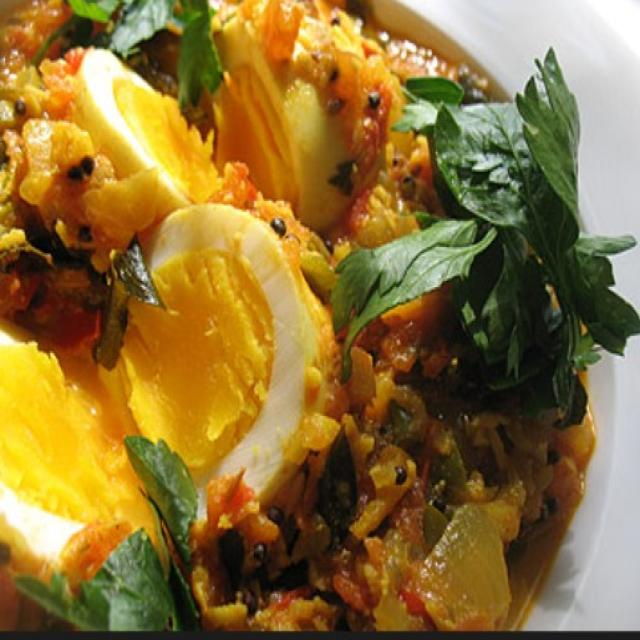EGG: (0, 0, 393, 579)
